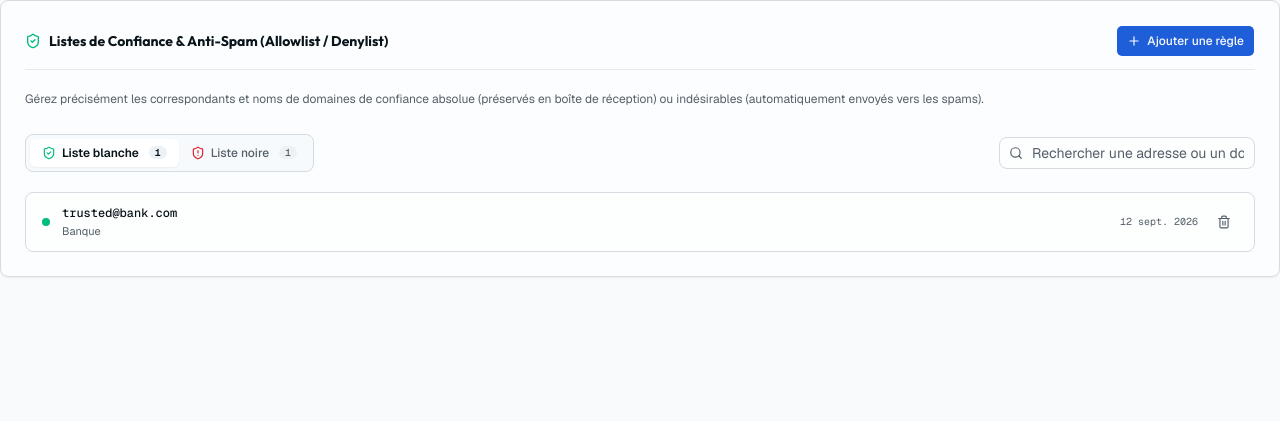
Test: SenderListsSettings › filtre la liste selon la saisie dans le champ de recherche
Type "inexistant" into the field with placeholder "Rechercher une adresse ou un domaine...".
click(1127, 152); type("inexistant")  # box [999,136,1255,168]
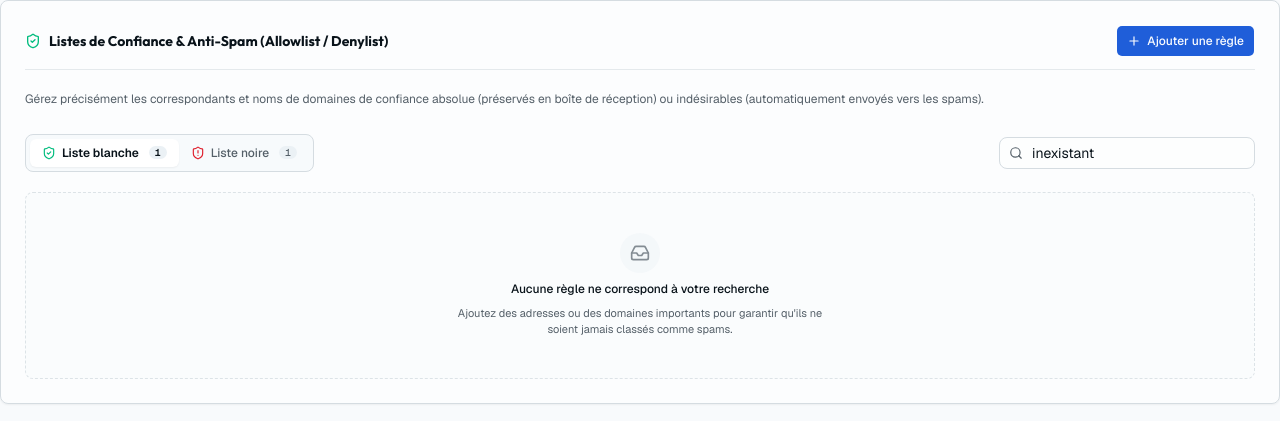
Check: the text "Aucune règle ne correspond à votre recherche" is shown, box [511,280,769,296]
